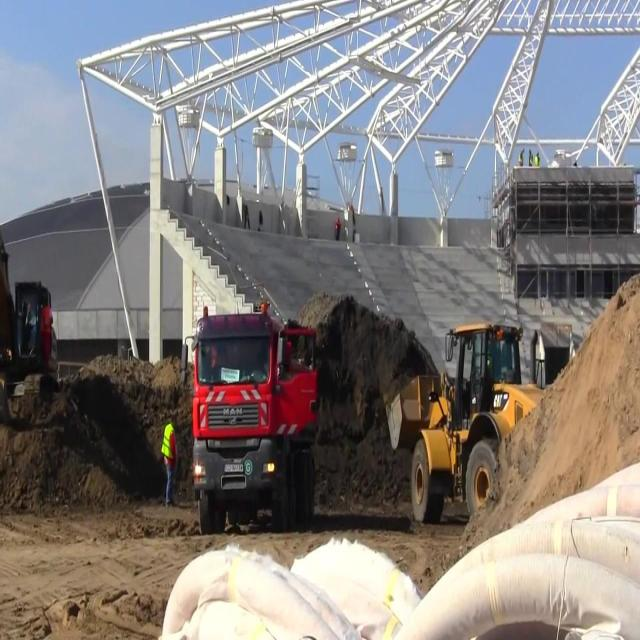buldozerpayloadergrader: (384, 318, 558, 526)
dump_truck: (179, 300, 321, 538)
excavator: (0, 235, 58, 435)
